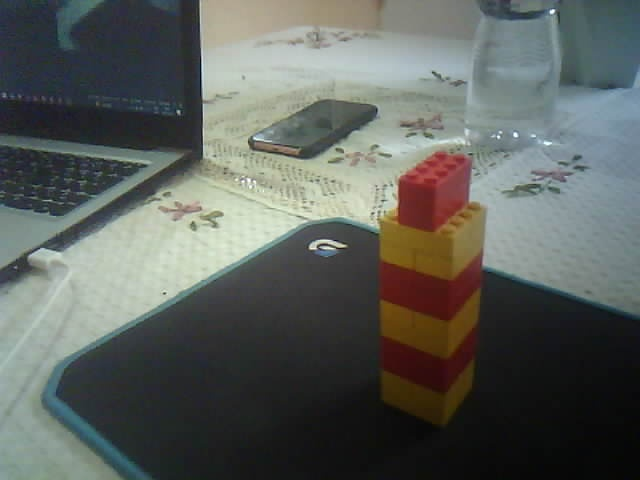lego: (377, 149, 488, 428)
